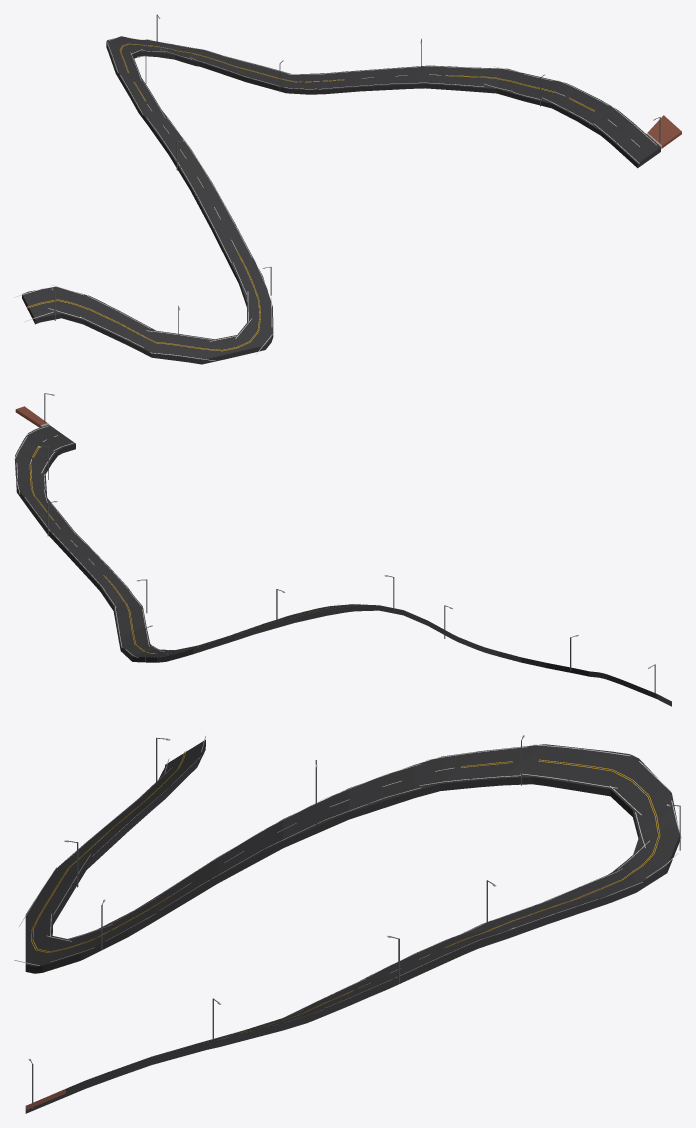
3 renders of one model, top to bottom at view 1: azimuth 30°, elevation 25°; view 2: azimuth 150°, elevation 25°; view 3: azimuth 270°, elevation 25°, orthographic. The views are drawn at different scales.
Bounding box in the file's own units: 167 × 43.87 × 102.
